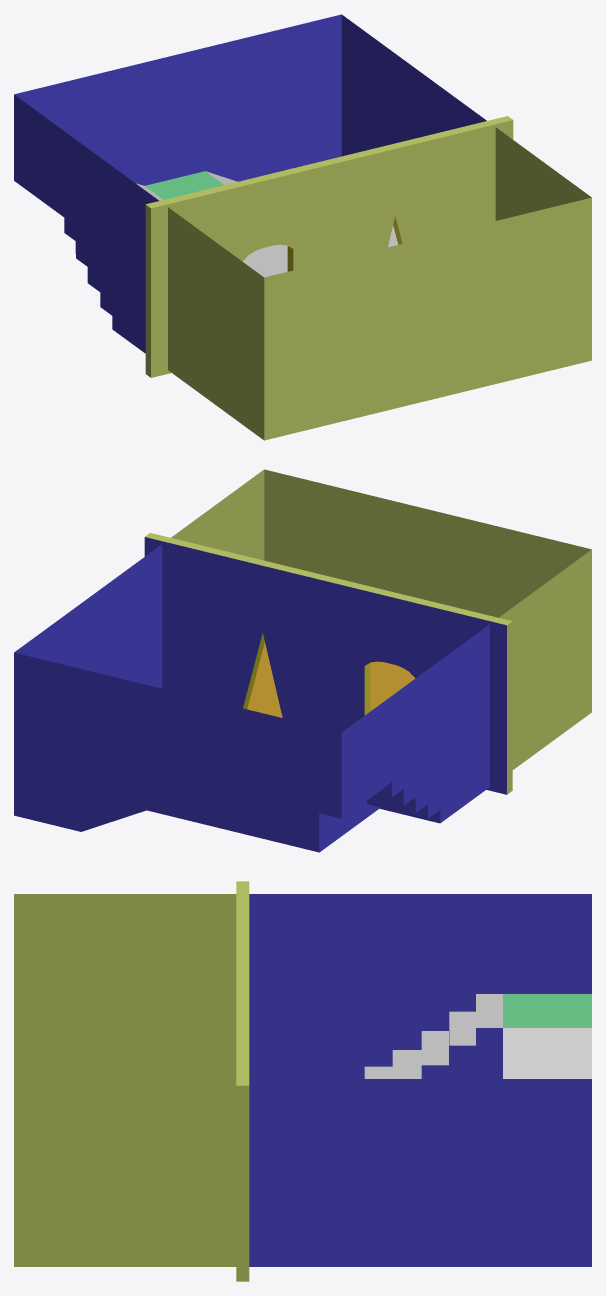
Rendered from UnityRoomWiderFixed.fbx.
3 renders of one model, top to bottom at view 1: azimuth 30°, elevation 25°; view 2: azimuth 150°, elevation 25°; view 3: azimuth 270°, elevation 25°, orthographic. The views are drawn at different scales.
Visible parts, largest first — view 1: Room, InnerWalls; view 2: Room, InnerWalls; view 3: Room, InnerWalls.
Part boxes in pixels (x1=…): Room: x1=14, y1=14, x2=591, y2=440; InnerWalls: x1=145, y1=116, x2=513, y2=377; Room: x1=14, y1=469, x2=591, y2=852; InnerWalls: x1=144, y1=533, x2=512, y2=794; Room: x1=14, y1=894, x2=591, y2=1266; InnerWalls: x1=236, y1=881, x2=249, y2=1281.
Bounding box in the file's own units: 2275 × 1017 × 2721.
